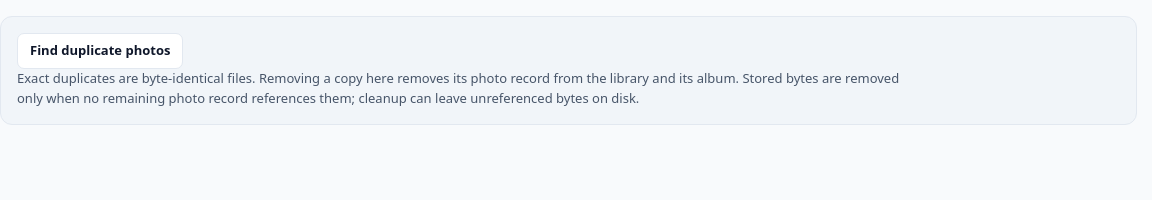
it: failed scans offer a retry
Click the button "Find duplicate photos".
click(100, 51)  # box [17, 33, 183, 69]
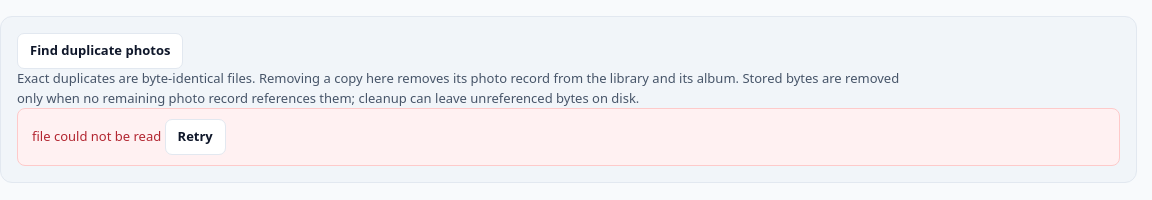
Expected: the message shows "file could not be read", [32, 127, 161, 145]
Click the button "Retry".
click(195, 137)  # box [165, 119, 226, 155]
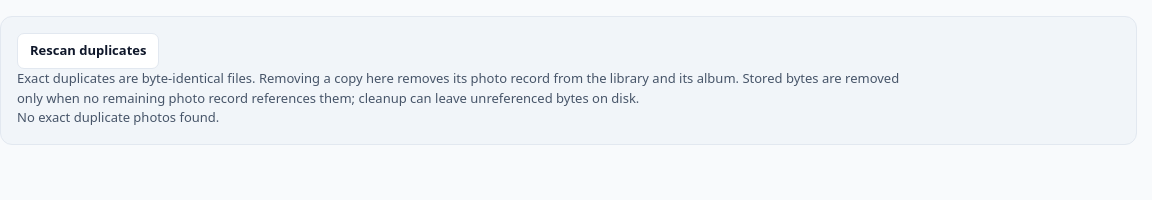
Expected: the text "No exact duplicate photos found." is shown, [17, 108, 219, 126]
